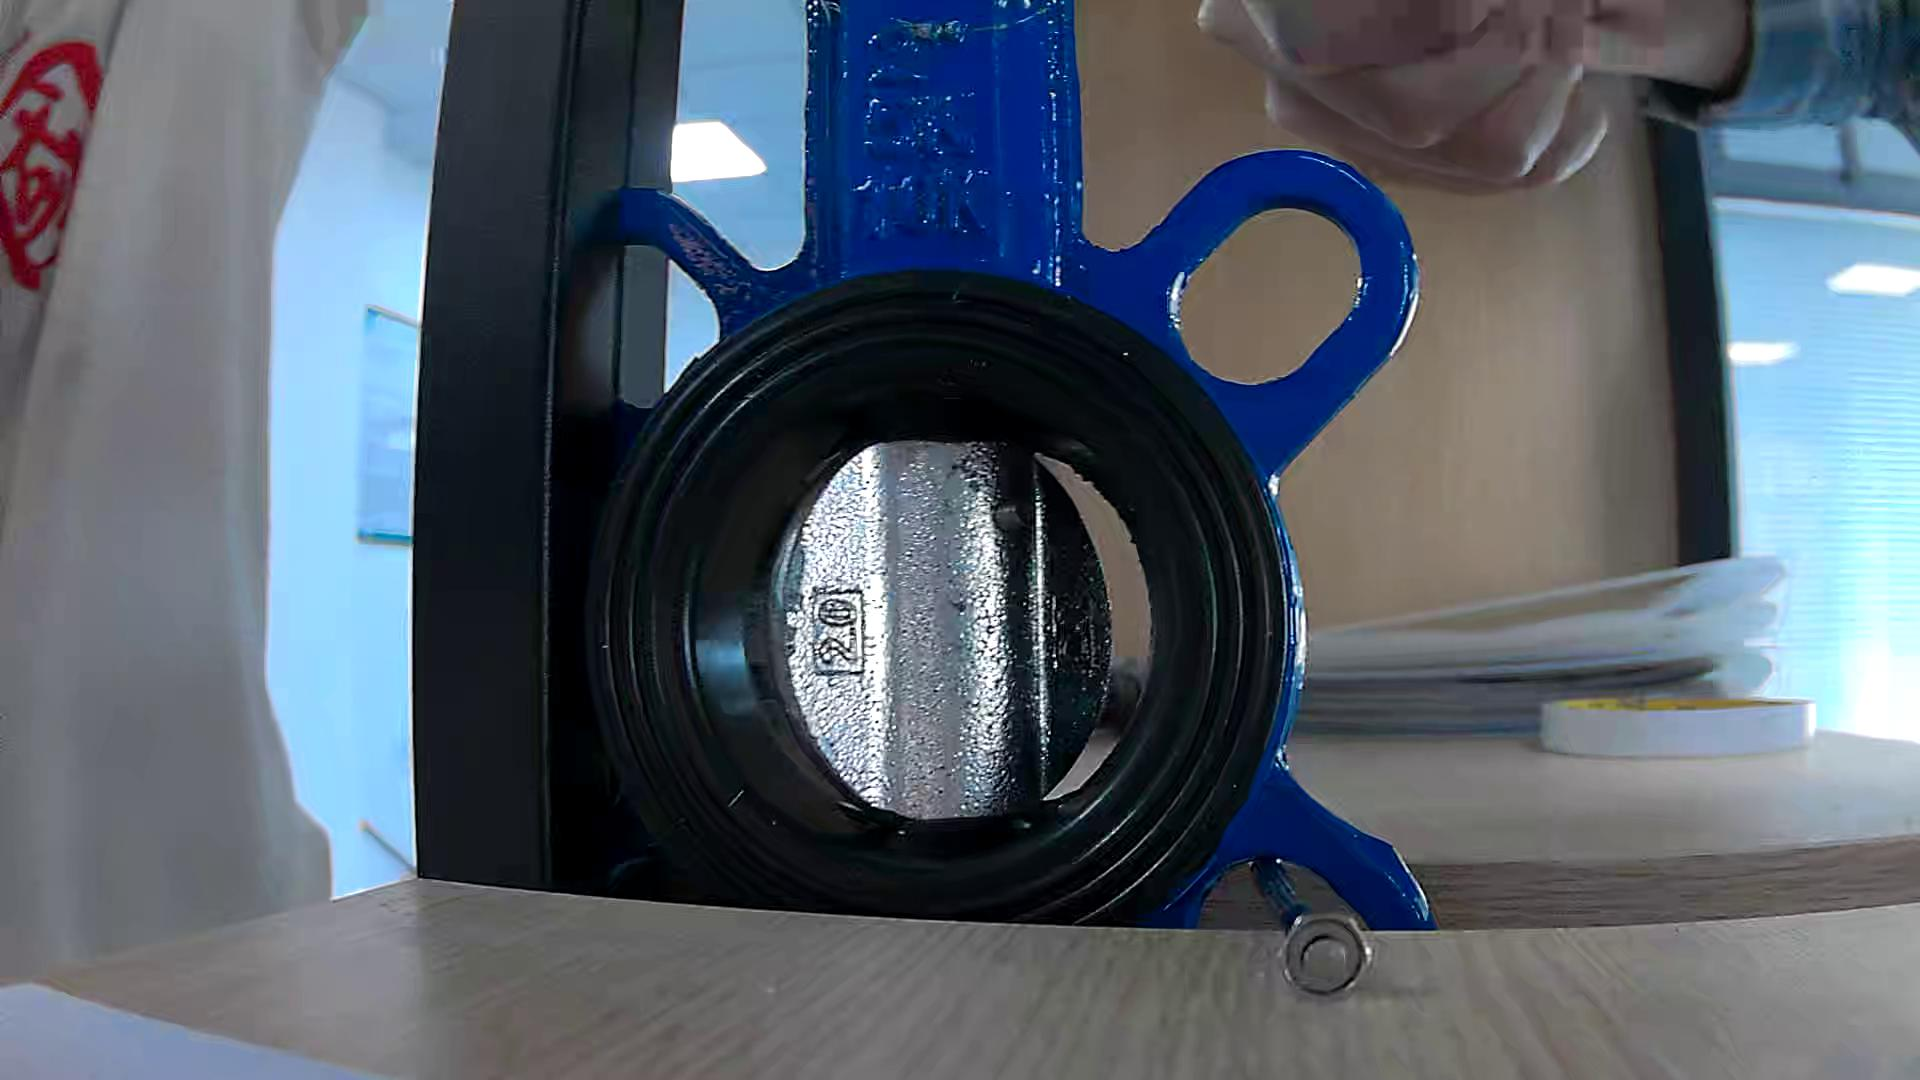valve: (782, 442, 1114, 818)
